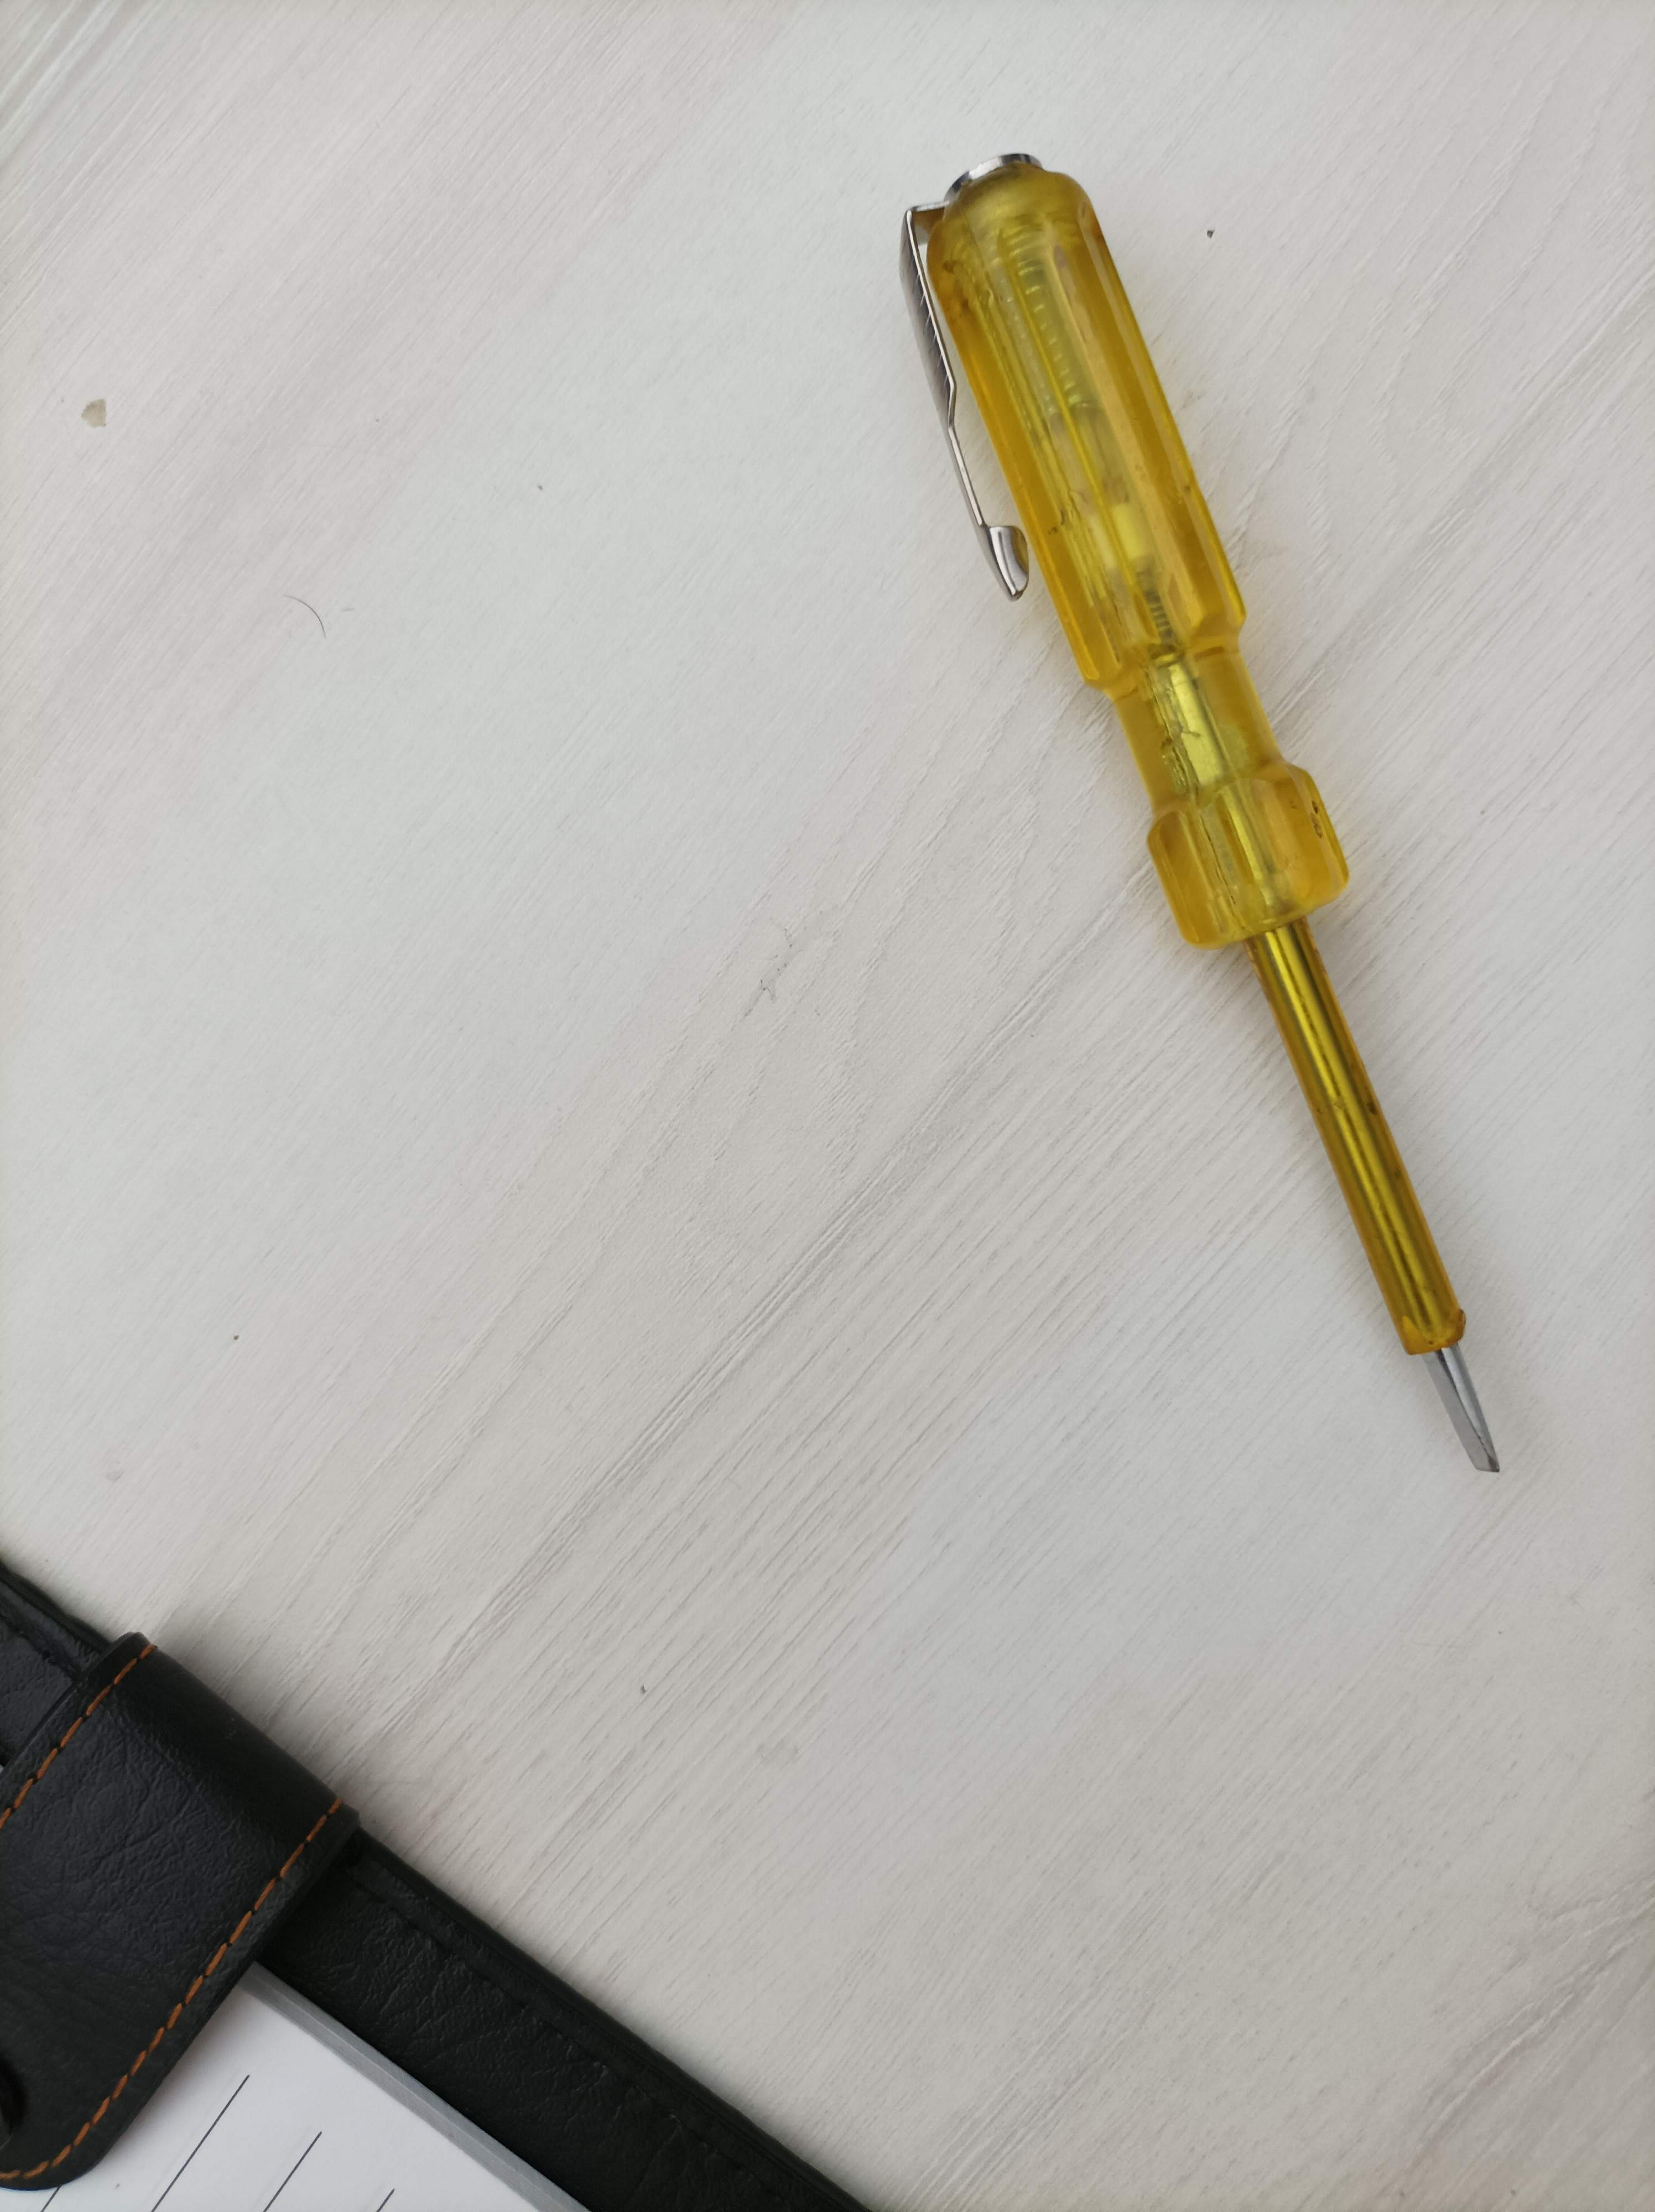screwdriver: (887, 134, 1519, 1513)
